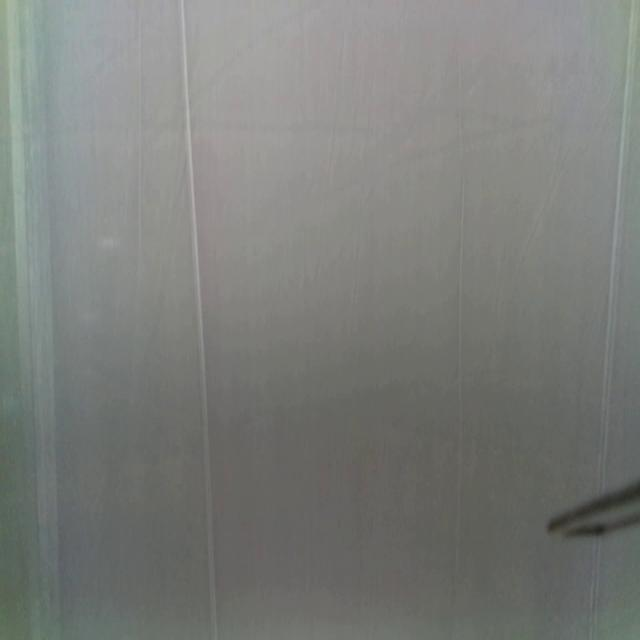crease: (7, 0, 62, 637), (180, 0, 217, 638), (597, 2, 638, 486), (452, 173, 468, 586), (136, 4, 144, 281), (588, 538, 603, 640)
